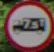Heavy Vehicles: (4, 2, 49, 44)
